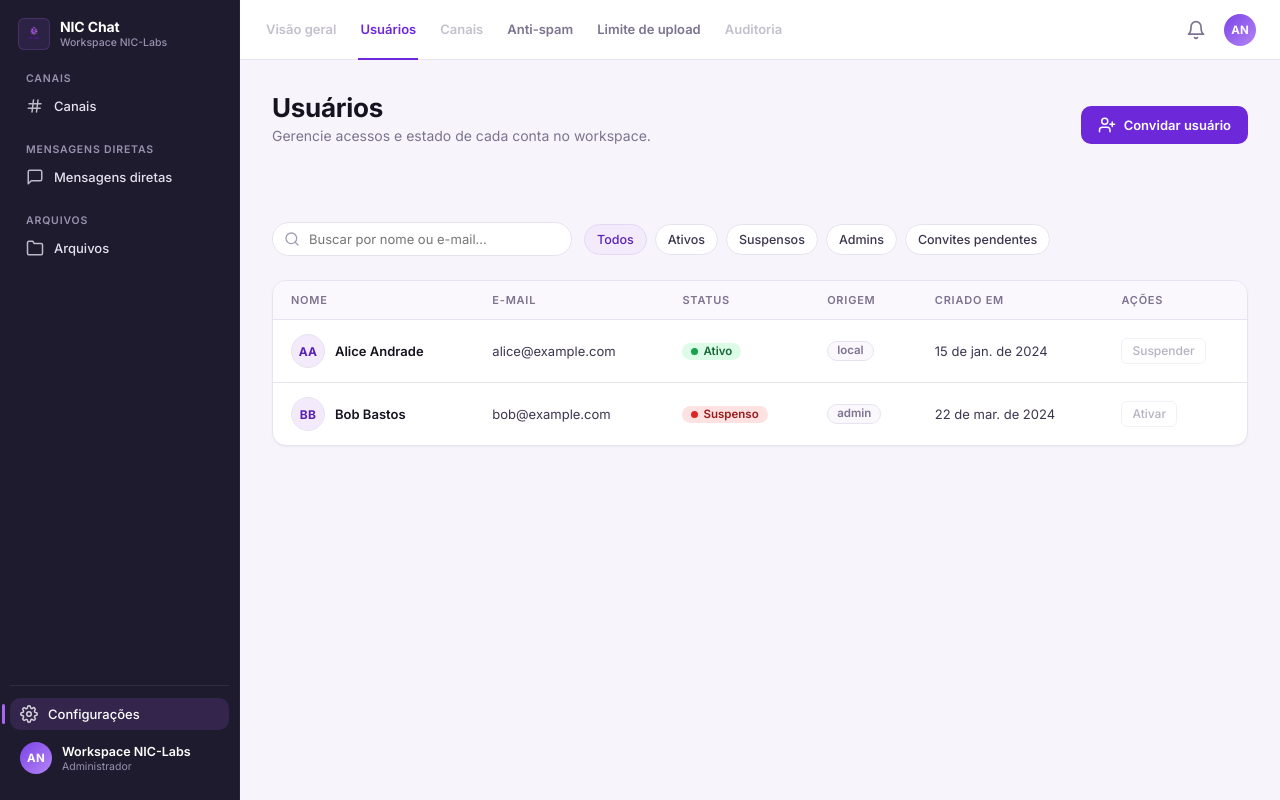
it: AdminUsersPage — search › search filters users by name
Expected: the text "Alice Andrade" is shown, [335,342,424,359]
Type "bob" into the search field named "buscar usuários" at coordinates (422, 239), box [272,222,572,256]
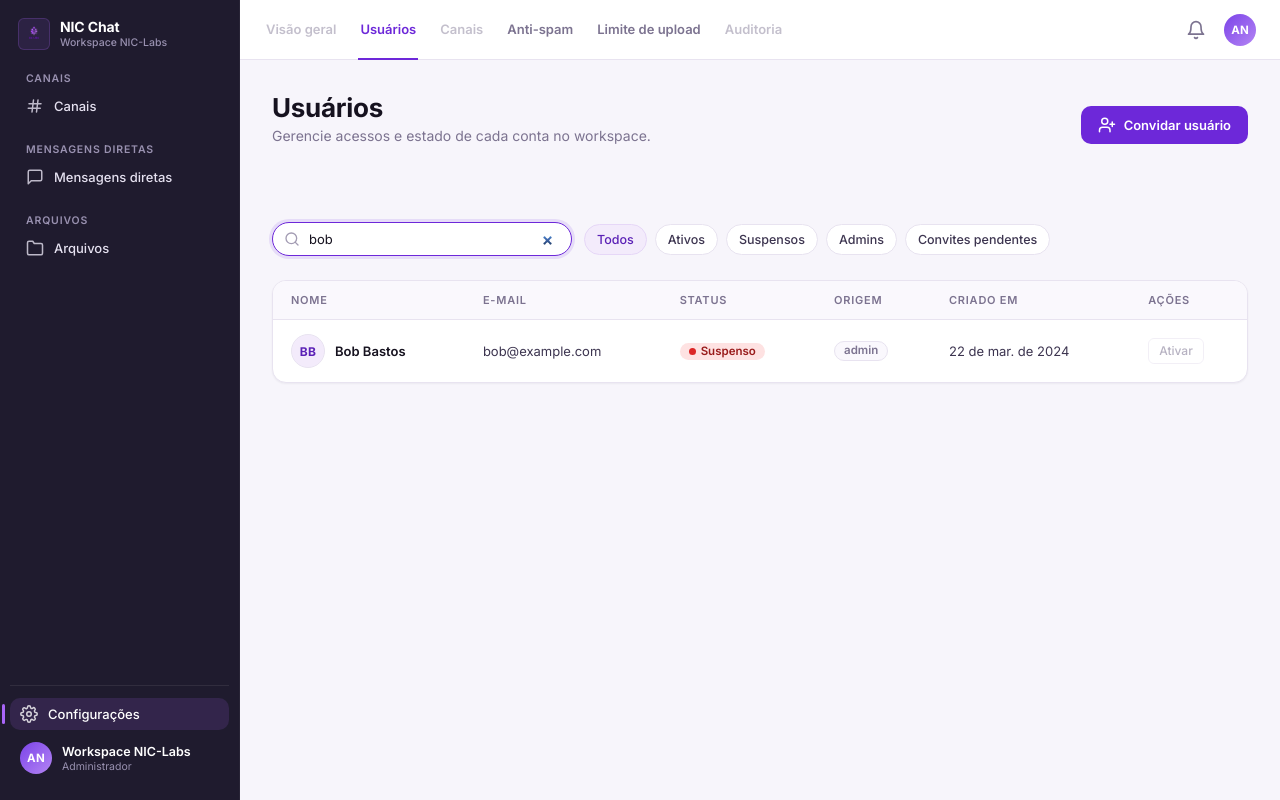
Expected: the text "Bob Bastos" is shown, [335,342,406,359]
Result: the text "Alice Andrade" is gone
